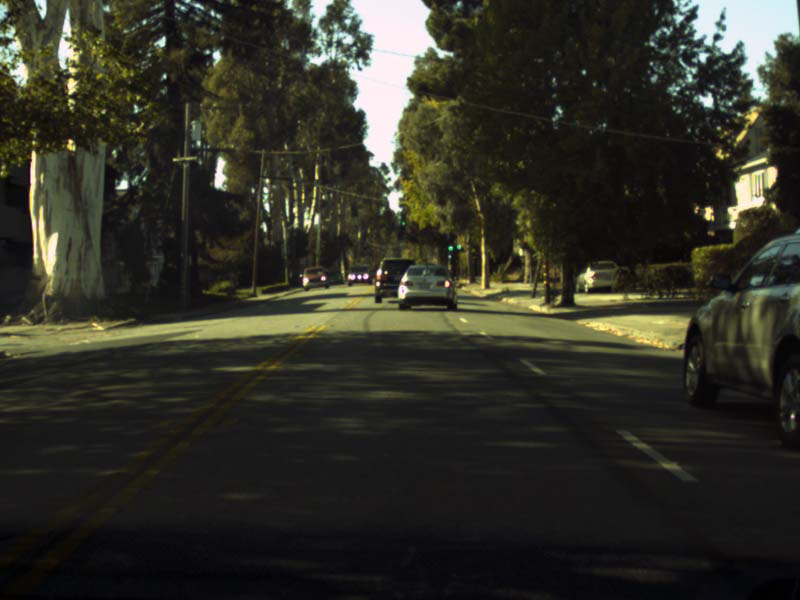Green: (400, 213, 405, 227), (447, 244, 453, 250), (456, 244, 461, 249)
